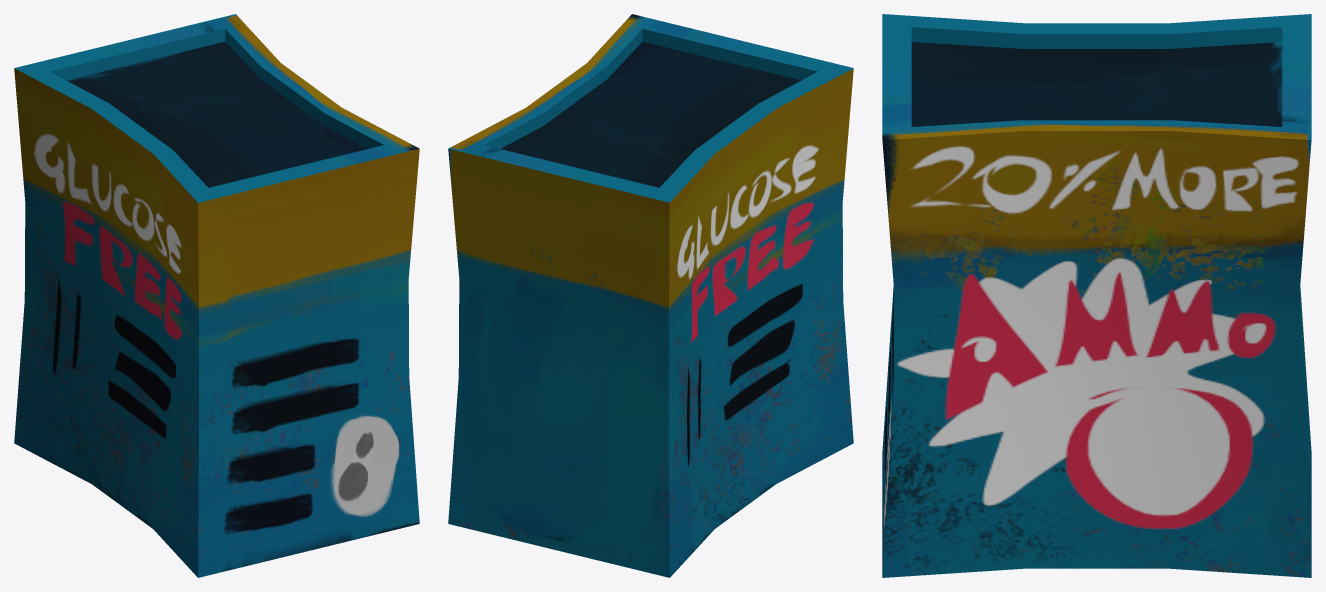
File: ammo.fbx
3 renders of one model, left to right at view 1: azimuth 30°, elevation 25°; view 2: azimuth 150°, elevation 25°; view 3: azimuth 270°, elevation 25°, orthographic. The views are drawn at different scales.
Visible parts, largest first — view 1: Cube; view 2: Cube; view 3: Cube.
Boxes of the visible parts, bbox=[...] form: Cube: bbox=[14, 14, 419, 577]; Cube: bbox=[448, 14, 853, 577]; Cube: bbox=[882, 14, 1311, 577].
Size of the model in its own units: 154 by 250 by 222.
Materials: 1 (1 with a texture image).
